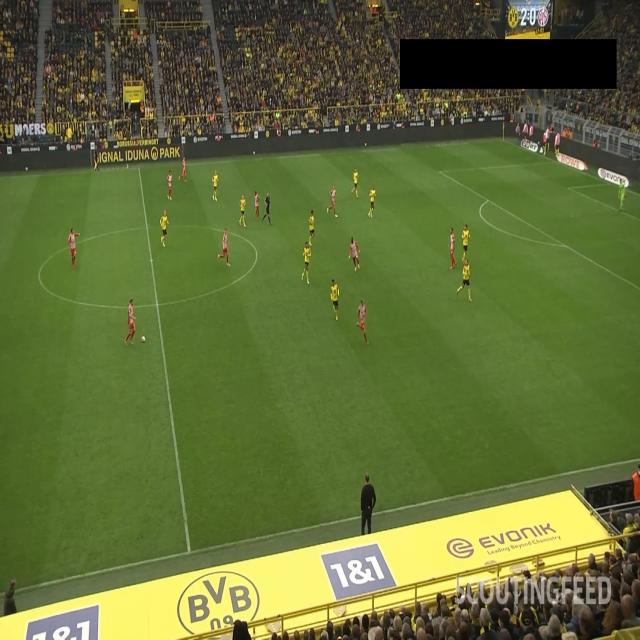ball: (141, 335, 146, 343)
